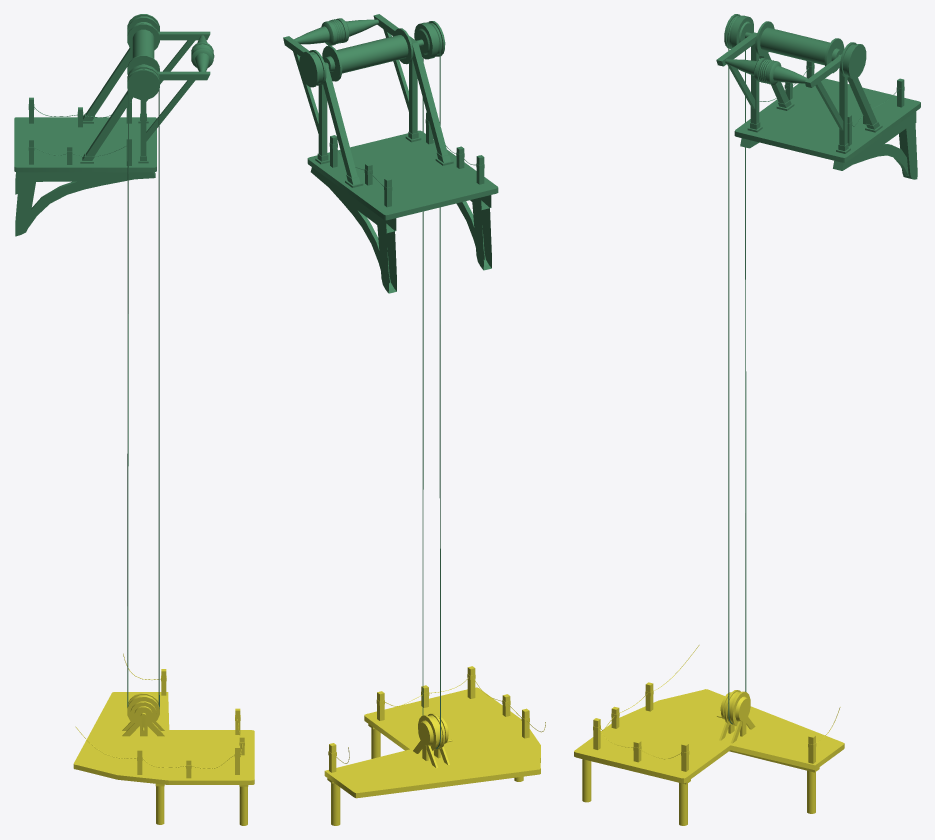
3 renders of one model, left to right at view 1: azimuth 30°, elevation 25°; view 2: azimuth 150°, elevation 25°; view 3: azimuth 270°, elevation 25°, orthographic. The views are drawn at different scales.
Visible parts, largest first — view 1: platformz_low, solpasrlhaute_low, cordePasrlll_low, poutrasse2_low, boisparlht_low, pierrepasrl_low, poutrasse6_low, poutrasse1_low, poutrasse9_low, rond_low, poteaubas_low, potobas_low (+3 smaller); view 2: platformz_low, solpasrlhaute_low, poutrasse6_low, poutrasse2_low, boisparlht_low, cordePasrlll_low, metalzz_low, poteaubas_low, piquetpasrlhaute_low, pierrepasrl_low, poutrasse9_low, poutrasseboisht_low (+4 smaller); view 3: platformz_low, solpasrlhaute_low, cordePasrlll_low, boisparlht_low, poutrasse6_low, poutrasse2_low, metalzz_low, potobas_low, poteaubas_low, pierrepasrl_low, poutrasse1_low, poutrasseboisht_low (+2 smaller).
Part boxes in pixels (box(x1,y1,x2,y2)): platformz_low: box(73, 692, 254, 784); solpasrlhaute_low: box(14, 117, 156, 172); cordePasrlll_low: box(34, 44, 214, 708); poutrasse2_low: box(85, 40, 195, 156); boisparlht_low: box(127, 14, 159, 99); pierrepasrl_low: box(18, 172, 155, 183); poutrasse6_low: box(15, 100, 146, 236); poutrasse1_low: box(158, 31, 210, 80); poutrasse9_low: box(28, 179, 133, 227); rond_low: box(127, 693, 159, 725); poteaubas_low: box(137, 669, 244, 778); potobas_low: box(156, 786, 247, 825); platformz_low: box(324, 687, 540, 798); solpasrlhaute_low: box(307, 130, 498, 220); poutrasse6_low: box(318, 59, 491, 293); poutrasse2_low: box(293, 29, 448, 178); boisparlht_low: box(299, 21, 445, 87); cordePasrlll_low: box(329, 19, 475, 748); metalzz_low: box(336, 35, 408, 73); poteaubas_low: box(329, 666, 529, 772); piquetpasrlhaute_low: box(330, 112, 484, 207); pierrepasrl_low: box(310, 167, 491, 233); poutrasse9_low: box(330, 189, 484, 283); poutrasseboisht_low: box(294, 19, 378, 44); platformz_low: box(574, 689, 844, 783); solpasrlhaute_low: box(734, 78, 920, 162); cordePasrlll_low: box(728, 15, 898, 724); boisparlht_low: box(724, 14, 866, 78); poutrasse6_low: box(751, 43, 917, 179); poutrasse2_low: box(727, 32, 877, 130); metalzz_low: box(760, 27, 829, 65); potobas_low: box(582, 759, 815, 825); poteaubas_low: box(593, 682, 815, 771); pierrepasrl_low: box(740, 111, 916, 170); poutrasse1_low: box(716, 36, 840, 87); poutrasseboisht_low: box(725, 59, 807, 83).
Bounding box in the file's own units: 888 × 3099 × 1268.
